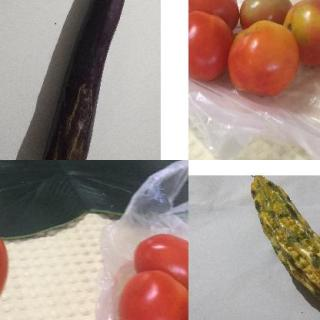Tomat: (189, 2, 320, 107), (118, 232, 189, 320)
